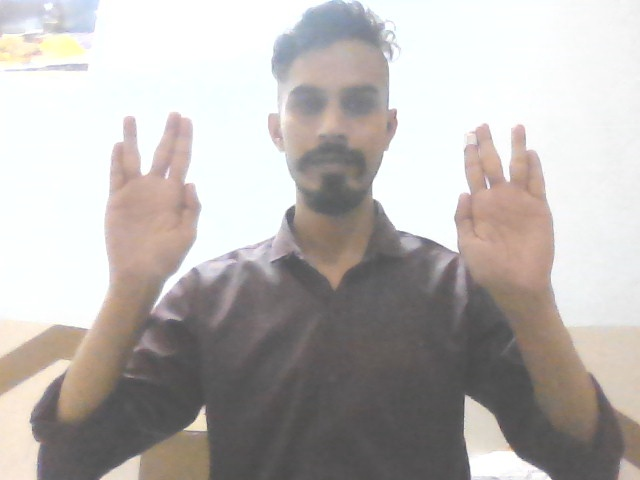LiveLong: (101, 103, 205, 273)
